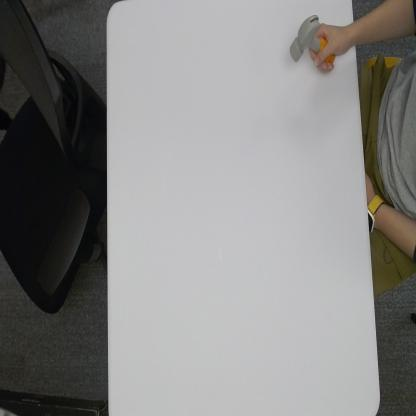Hammer: (290, 14, 334, 64)
Hand: (311, 22, 356, 72)
